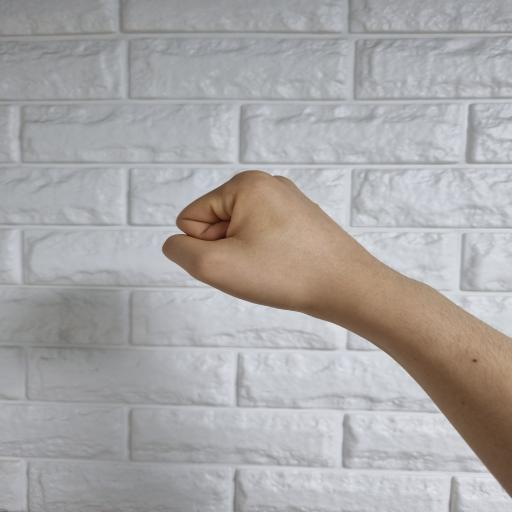Rock: (161, 168, 381, 318)
